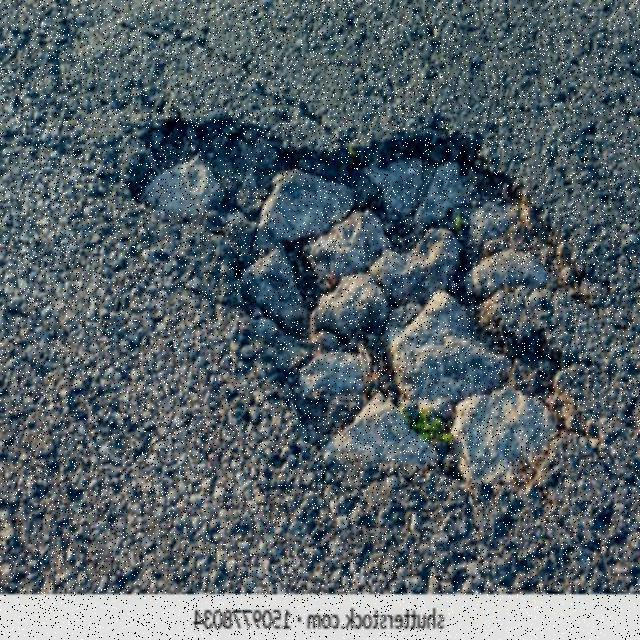Pothole: (121, 103, 605, 485)
